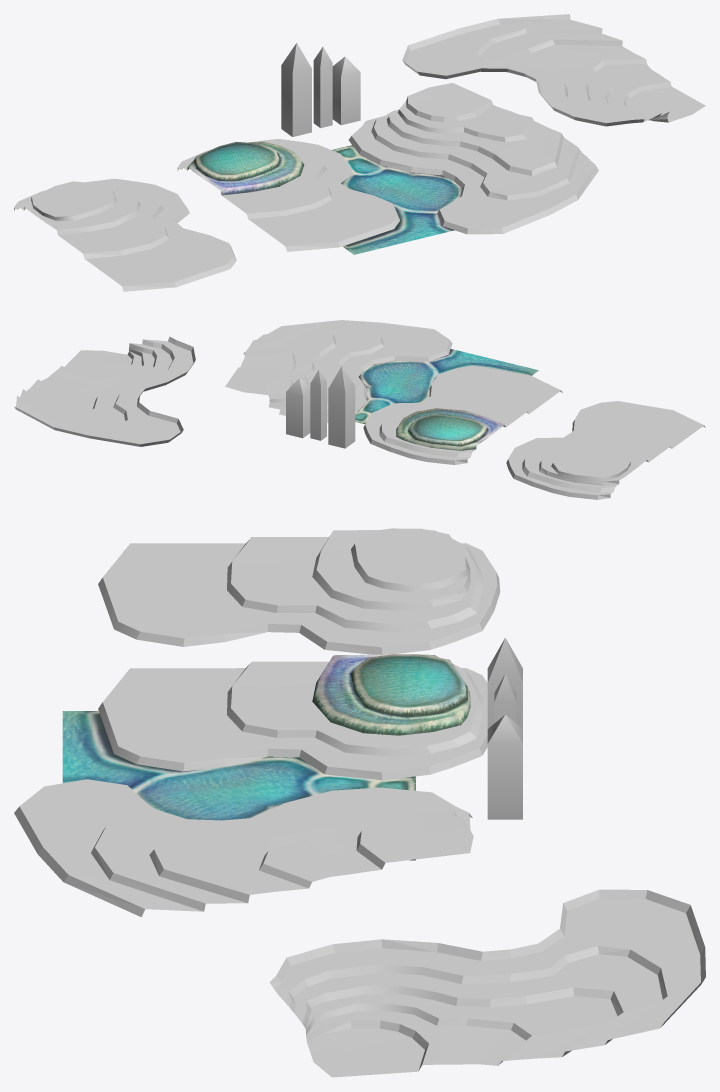
File: stage_third3.FBX
The picture shows the model from 3 angles, top to bottom: view 1: azimuth 30°, elevation 25°; view 2: azimuth 150°, elevation 25°; view 3: azimuth 270°, elevation 25°; orthographic projection. The views are drawn at different scales.
Parts seen in each view (by area): view 1: Cylinder002, Cylinder001, オブジェクト005, オブジェクト001, Plane002, オブジェクト006, オブジェクト007, オブジェクト002, オブジェクト008, オブジェクト010, Box001, オブジェクト009 (+3 smaller); view 2: Cylinder002, Cylinder001, オブジェクト001, Plane002, オブジェクト005, オブジェクト002, オブジェクト006, オブジェクト007, Box001, オブジェクト010, オブジェクト009, オブジェクト003 (+3 smaller); view 3: Cylinder002, Cylinder001, オブジェクト001, オブジェクト005, Plane002, オブジェクト002, オブジェクト006, オブジェクト007, オブジェクト010, オブジェクト003, オブジェクト009, オブジェクト008 (+3 smaller).
Part boxes in pixels (x1,y1,x2,y2): Cylinder002: [402, 14, 705, 126]; Cylinder001: [14, 178, 236, 291]; オブジェクト005: [348, 116, 598, 234]; オブジェクト001: [177, 139, 399, 251]; Plane002: [332, 145, 462, 254]; オブジェクト006: [371, 109, 580, 200]; オブジェクト007: [386, 111, 563, 175]; オブジェクト002: [182, 140, 332, 219]; オブジェクト008: [397, 101, 534, 142]; オブジェクト010: [194, 141, 280, 180]; Box001: [281, 43, 311, 136]; オブジェクト009: [406, 83, 493, 121]; Cylinder002: [14, 336, 195, 446]; Cylinder001: [506, 401, 705, 499]; オブジェクト001: [363, 366, 562, 464]; Plane002: [355, 349, 538, 423]; オブジェクト005: [268, 320, 452, 422]; オブジェクト002: [379, 393, 528, 457]; オブジェクト006: [257, 324, 384, 414]; オブジェクト007: [245, 330, 336, 407]; Box001: [328, 366, 355, 448]; オブジェクト010: [408, 414, 487, 446]; オブジェクト009: [225, 367, 293, 399]; オブジェクト003: [396, 408, 505, 450]; Cylinder002: [269, 889, 705, 1077]; Cylinder001: [98, 528, 500, 654]; オブジェクト001: [98, 668, 487, 780]; オブジェクト005: [14, 779, 472, 917]; Plane002: [62, 711, 415, 860]; オブジェクト002: [227, 661, 483, 756]; オブジェクト006: [91, 798, 456, 911]; オブジェクト007: [149, 806, 441, 902]; オブジェクト010: [351, 654, 467, 716]; オブジェクト003: [312, 654, 470, 735]; オブジェクト009: [356, 812, 473, 869]; オブジェクト008: [259, 809, 441, 888].
Bounding box in the file's own units: 332 × 53.13 × 196.
